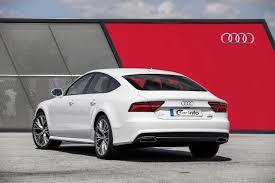audi: (29, 68, 233, 164)
